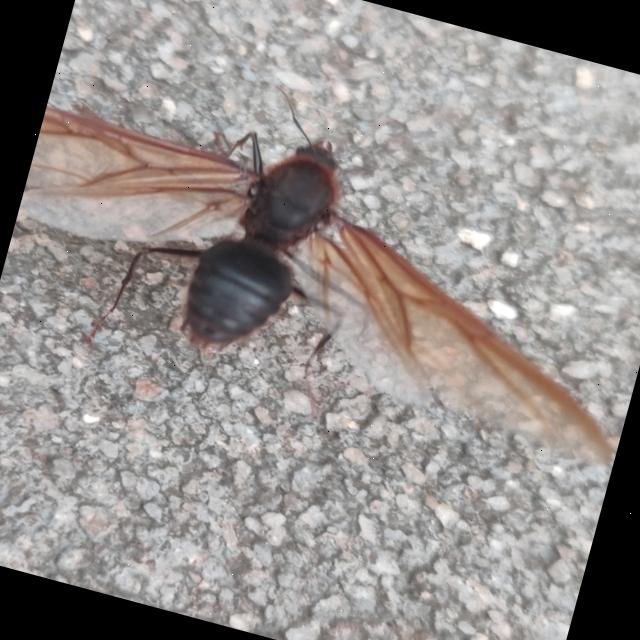Alive-Male-Alate: (0, 28, 640, 491)
